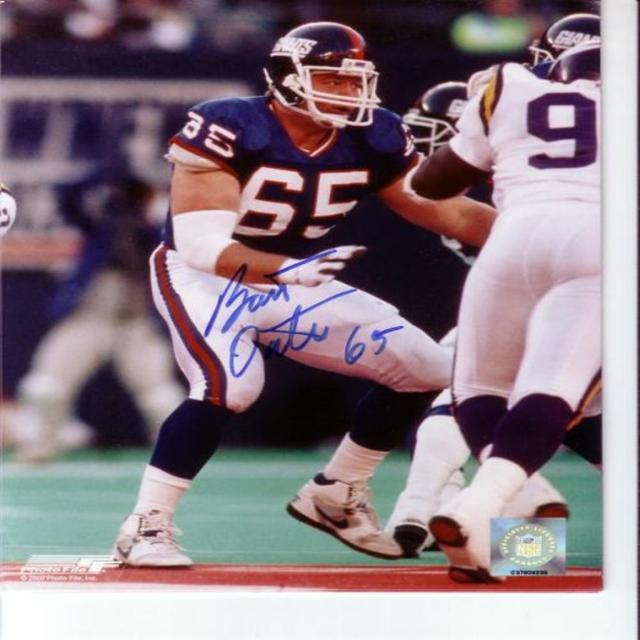nomask: (308, 64, 366, 126)
